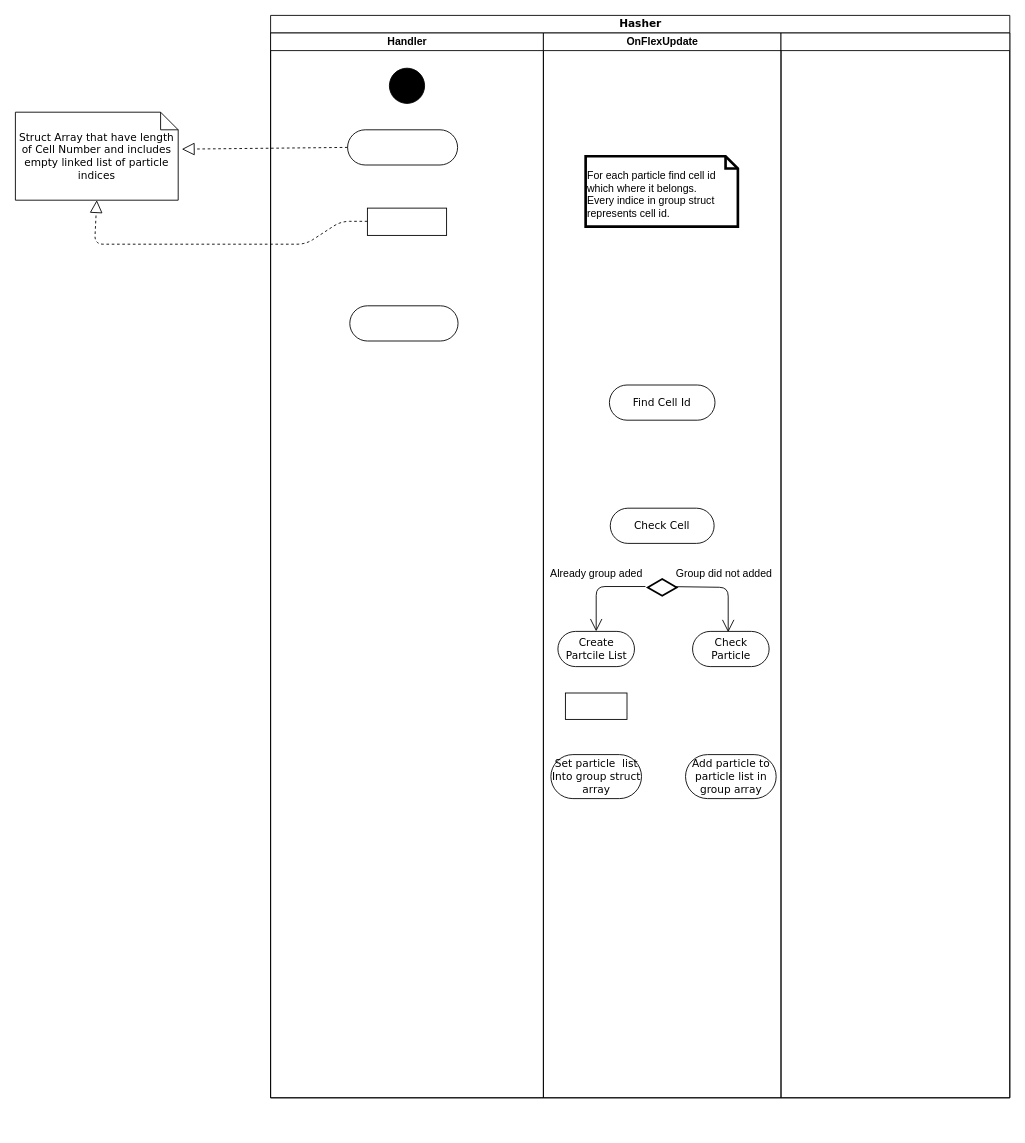
This 1025x1143 diagram has some shape labels left out. The shapes that lost their labels are listed below. From the top down, each one's centre as x and y in pixels, then its label:
At point 402,147: "Create Struct For Hashing Algorithm".
At point 407,221: "groups[]".
At point 403,323: "Send Particles Radius and Groups".
At point 895,565: "Update".
At point 596,705: "List<int> particles".
